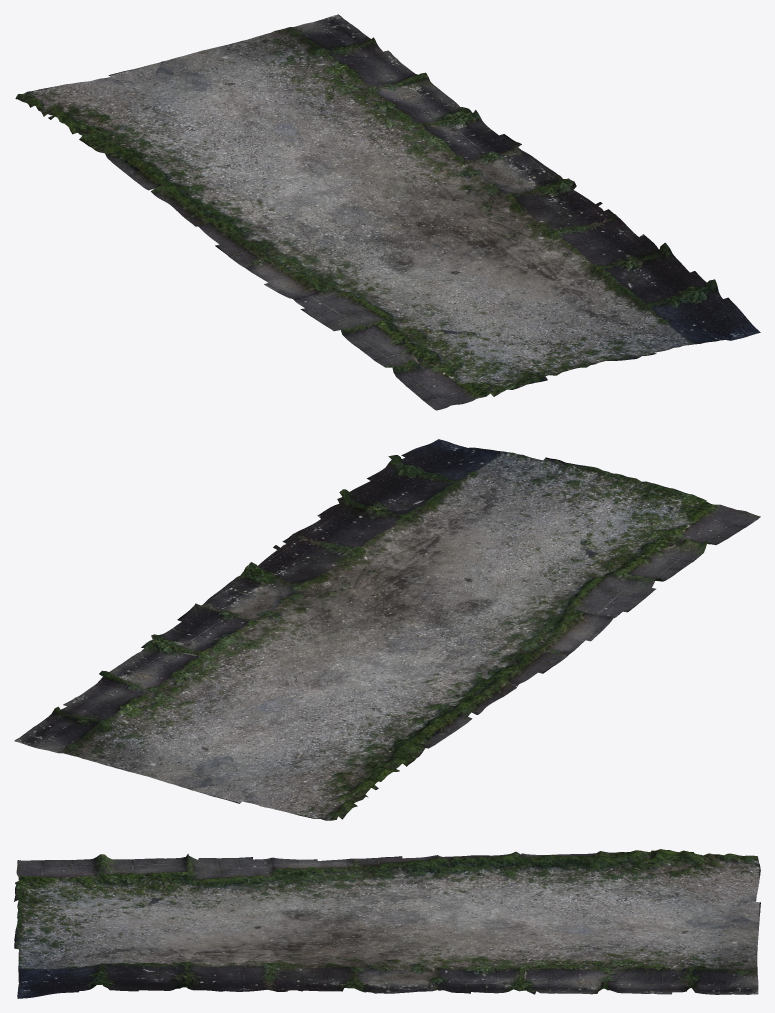
The model's file is gravel_pathway_01_022c0418.fbx.
3 renders of one model, top to bottom at view 1: azimuth 30°, elevation 25°; view 2: azimuth 150°, elevation 25°; view 3: azimuth 270°, elevation 25°, orthographic. The views are drawn at different scales.
Parts seen in each view (by area): view 1: gravel_pathway_01_022c0418; view 2: gravel_pathway_01_022c0418; view 3: gravel_pathway_01_022c0418.
Boxes of the visible parts, x1,y1,x2,y2 form: gravel_pathway_01_022c0418: [15, 14, 760, 410]; gravel_pathway_01_022c0418: [14, 439, 760, 820]; gravel_pathway_01_022c0418: [14, 849, 760, 998].
Size of the model in its own units: 2.92 by 0.1788 by 6.6.
Materials: 1 (1 with a texture image).
